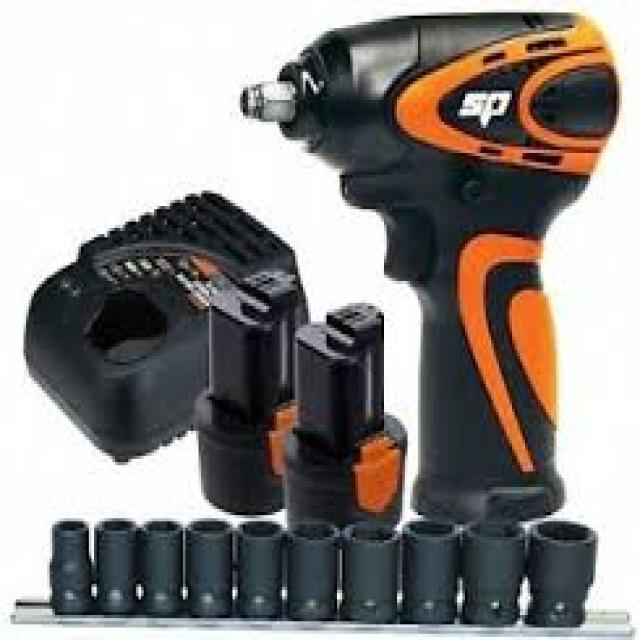driller: (240, 9, 624, 520)
